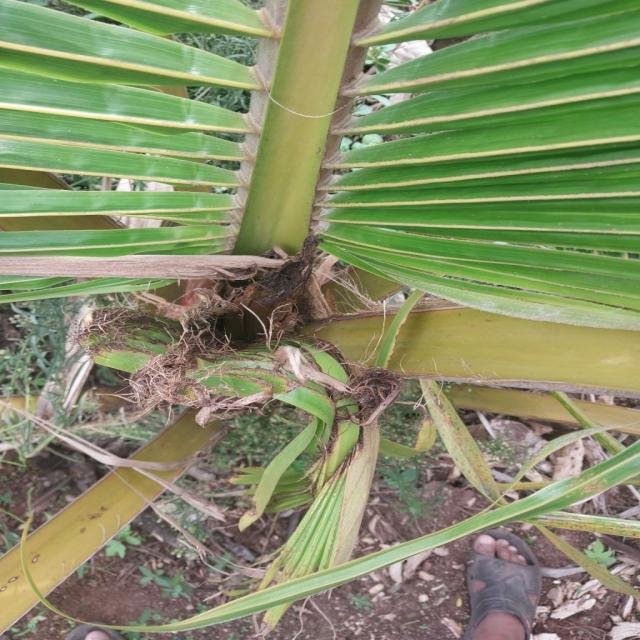bud rot: (75, 234, 343, 424)
